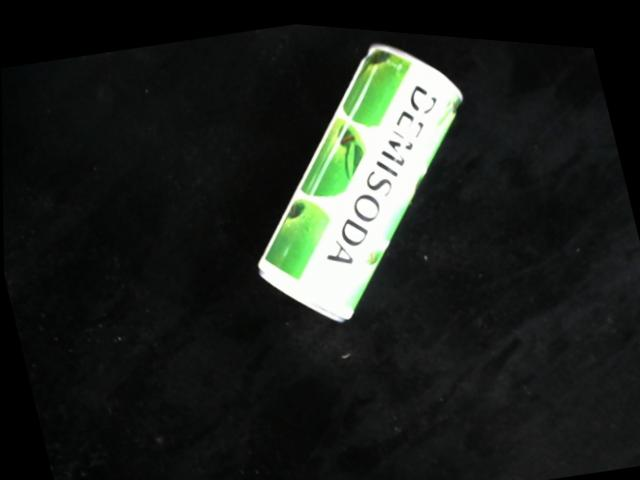can: (256, 35, 465, 318)
